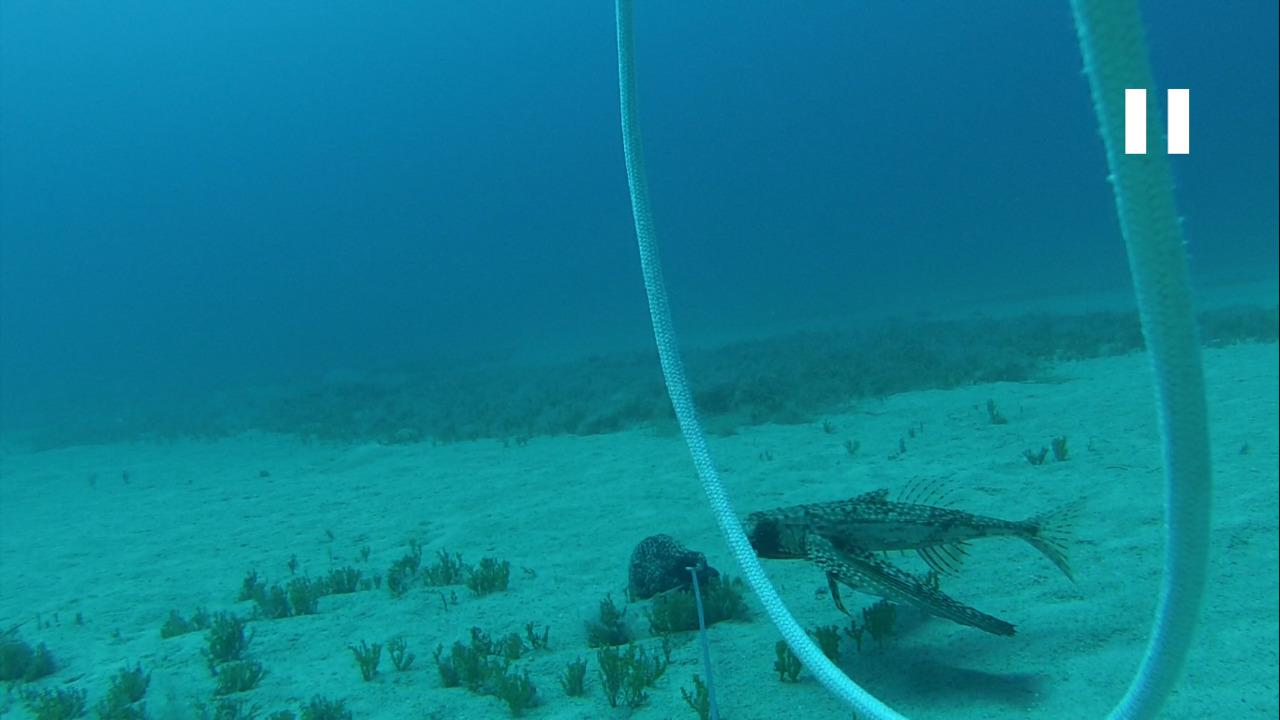dactylopterus: (733, 470, 1103, 645)
